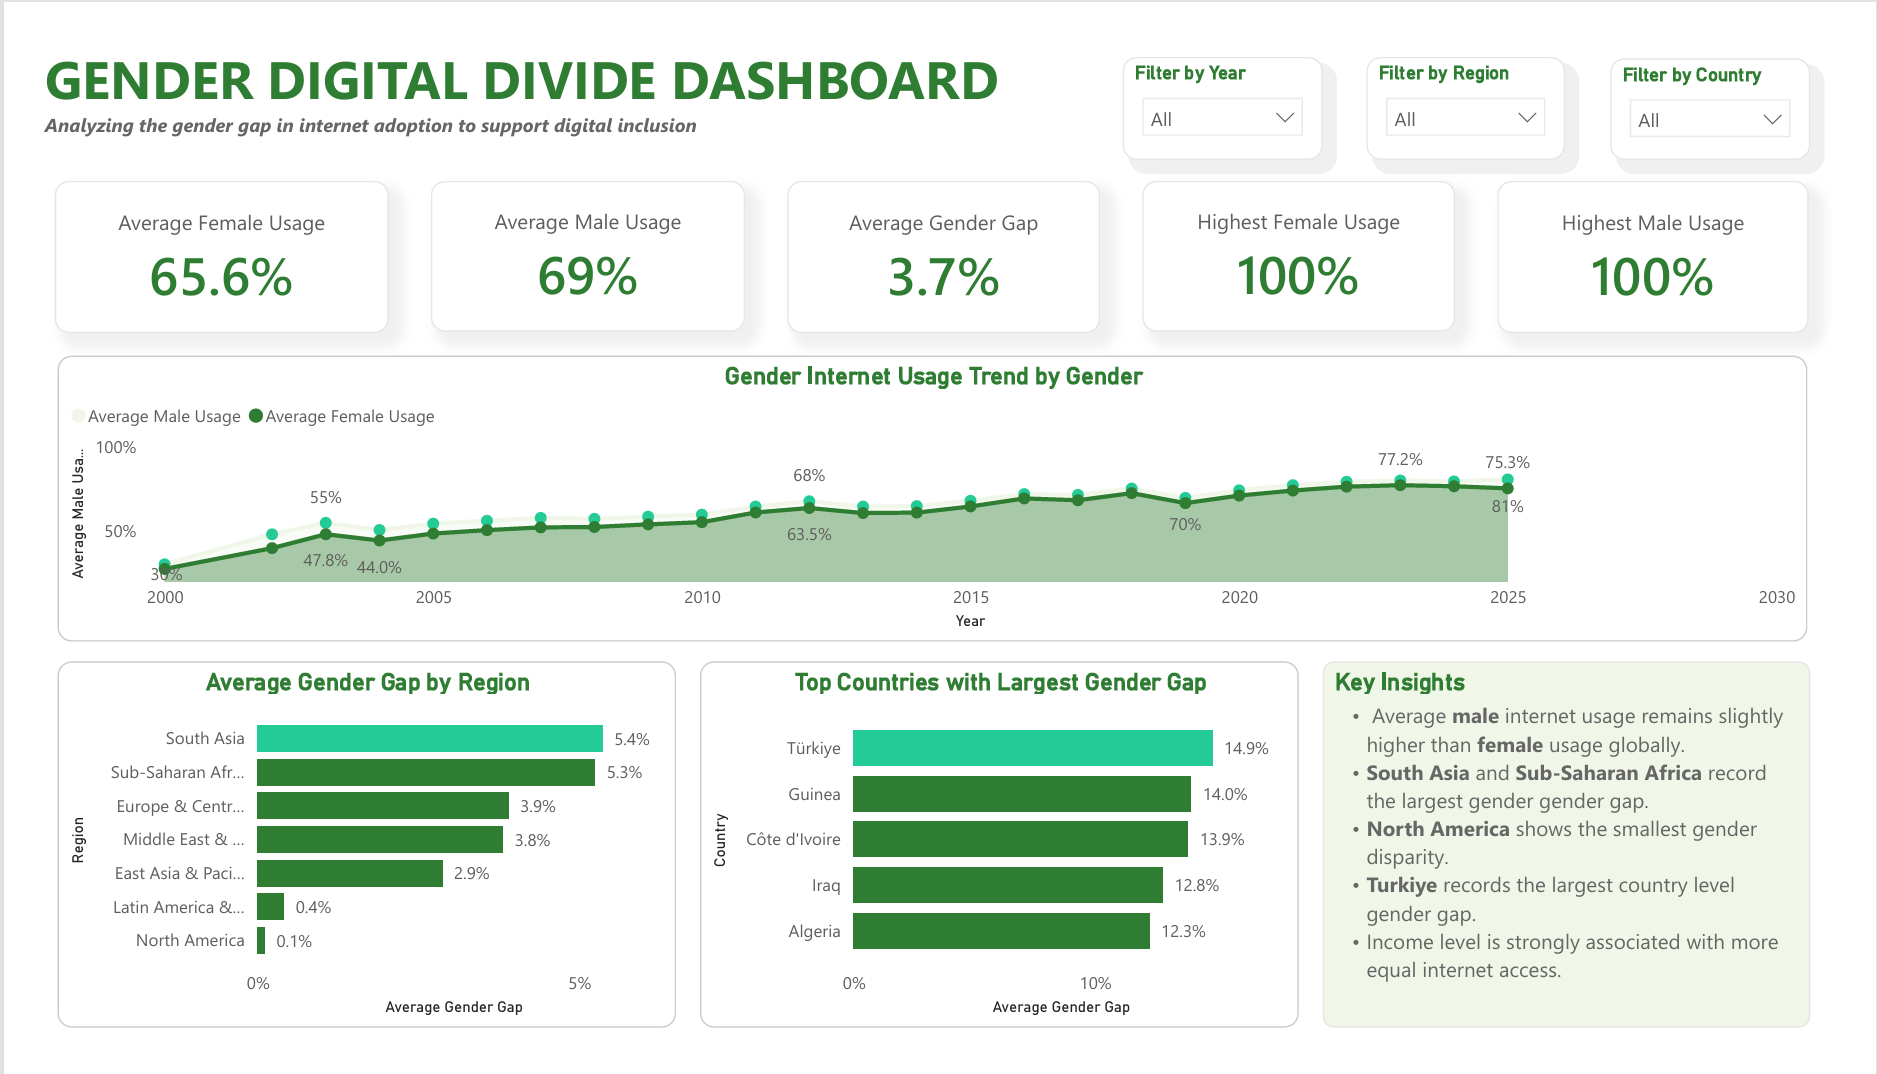

Layout of this report page (visuals, bound fields, positions):
{"tool":"powerbi","page":{"name":"Gender Digital Divide","canvas":[1280,720],"ordinal":2},"visuals":[{"type":"cardVisual","fields":{"Data":["Internet Adoption.Average Female Internet Usage"]},"box":[11.6,103.4,237.6,107.2],"z":0},{"type":"textbox","box":[0,0,1279.5,93.9],"z":1000},{"type":"cardVisual","fields":{"Data":["Internet Adoption.Average Male Internet Usage"]},"box":[278.8,103.3,223.4,107.2],"z":2000},{"type":"cardVisual","fields":{"Data":["Internet Adoption.Average Gender Gap"]},"box":[531.8,103.5,222.1,107.2],"z":3000},{"type":"cardVisual","fields":{"Data":["Internet Adoption.Highest Male Internet Usage"]},"box":[1035.7,103.2,221.1,107.5],"z":4000},{"type":"cardVisual","fields":{"Data":["Internet Adoption.Highest Female Internet Usage"]},"box":[783.5,103,222.6,107.5],"z":5000},{"type":"lineChart","title":"Gender Internet Usage Trend by Gender","fields":{"Category":["Internet Adoption.Year"],"Y":["Internet Adoption.Average Male Internet Usage","Internet Adoption.Average Female Internet Usage"]},"box":[14.3,227.3,1241.9,202.7],"z":6000},{"type":"clusteredBarChart","title":" Average Gender Gap by Region","fields":{"Category":["WDICountry.Region"],"Y":["Internet Adoption.Average Gender Gap"]},"box":[14.2,444.2,439,259.5],"z":7000},{"type":"clusteredBarChart","title":"Top Countries with Largest Gender Gap","fields":{"Category":["WDICountry.Country"],"Y":["Internet Adoption.Average Gender Gap"]},"box":[470,444.2,424.8,259.5],"z":8000},{"type":"textbox","title":"Key Insights","box":[911.6,444.2,346,259.5],"z":9000},{"type":"slicer","title":"Filter by Country","fields":{"Values":["Internet Adoption.Country Name"]},"box":[1115.6,15.6,142,72.3],"z":10000},{"type":"slicer","title":"Filter by Region","fields":{"Values":["WDICountry.Region"]},"box":[942.8,15.5,141.5,72.5],"z":11000},{"type":"slicer","title":"Filter by Year","fields":{"Values":["Internet Adoption.Year"]},"box":[769.6,15.5,142,72.3],"z":12000}]}

Visuals, with their boxes in screenshot pixels (x1, y1, x2, y2), scaled from the page's 1280x720 canvas onto the 1877x1074 screenshot:
cardVisual - Internet Adoption.Average Female Internet Usage: (x1=17, y1=154, x2=365, y2=314)
textbox: (x1=0, y1=0, x2=1876, y2=140)
cardVisual - Internet Adoption.Average Male Internet Usage: (x1=409, y1=154, x2=736, y2=314)
cardVisual - Internet Adoption.Average Gender Gap: (x1=780, y1=154, x2=1106, y2=314)
cardVisual - Internet Adoption.Highest Male Internet Usage: (x1=1519, y1=154, x2=1843, y2=314)
cardVisual - Internet Adoption.Highest Female Internet Usage: (x1=1149, y1=154, x2=1475, y2=314)
"Gender Internet Usage Trend by Gender" lineChart: (x1=21, y1=339, x2=1842, y2=641)
" Average Gender Gap by Region" clusteredBarChart: (x1=21, y1=663, x2=665, y2=1050)
"Top Countries with Largest Gender Gap" clusteredBarChart: (x1=689, y1=663, x2=1312, y2=1050)
"Key Insights" textbox: (x1=1337, y1=663, x2=1844, y2=1050)
"Filter by Country" slicer: (x1=1636, y1=23, x2=1844, y2=131)
"Filter by Region" slicer: (x1=1383, y1=23, x2=1590, y2=131)
"Filter by Year" slicer: (x1=1129, y1=23, x2=1337, y2=131)
